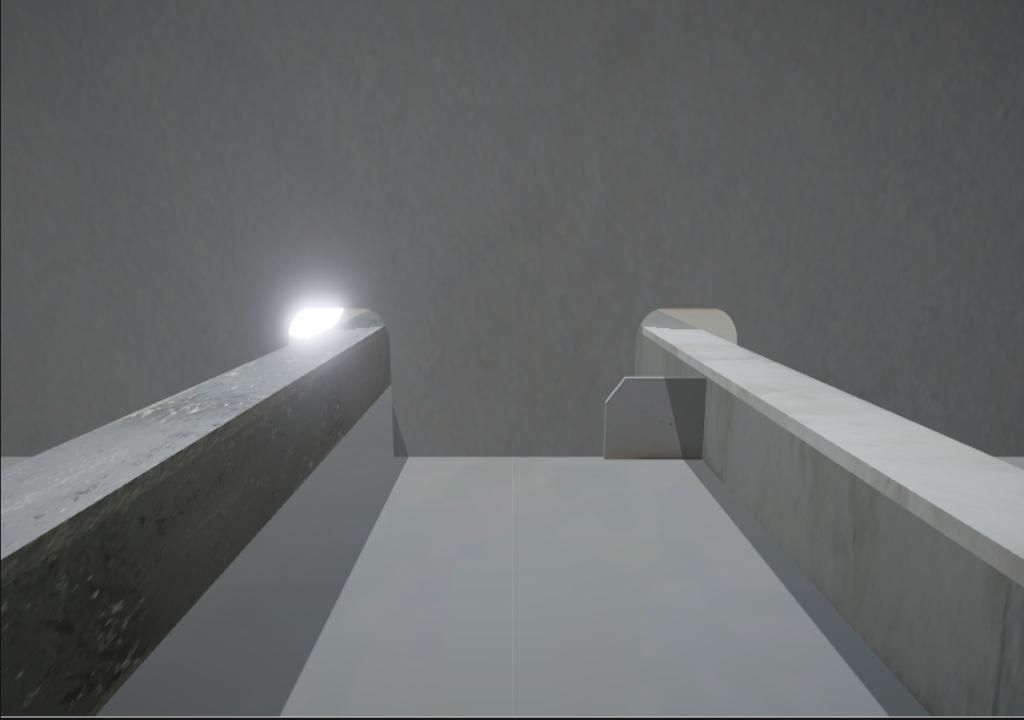fillet_yong_jeop_jang: (389, 448, 605, 464)
plate_CP03: (603, 376, 705, 460)
